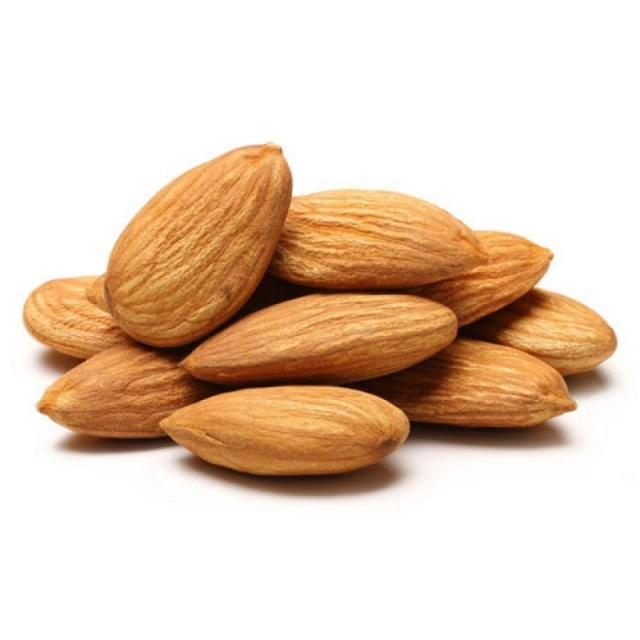Frutta secca: (32, 130, 613, 500)
